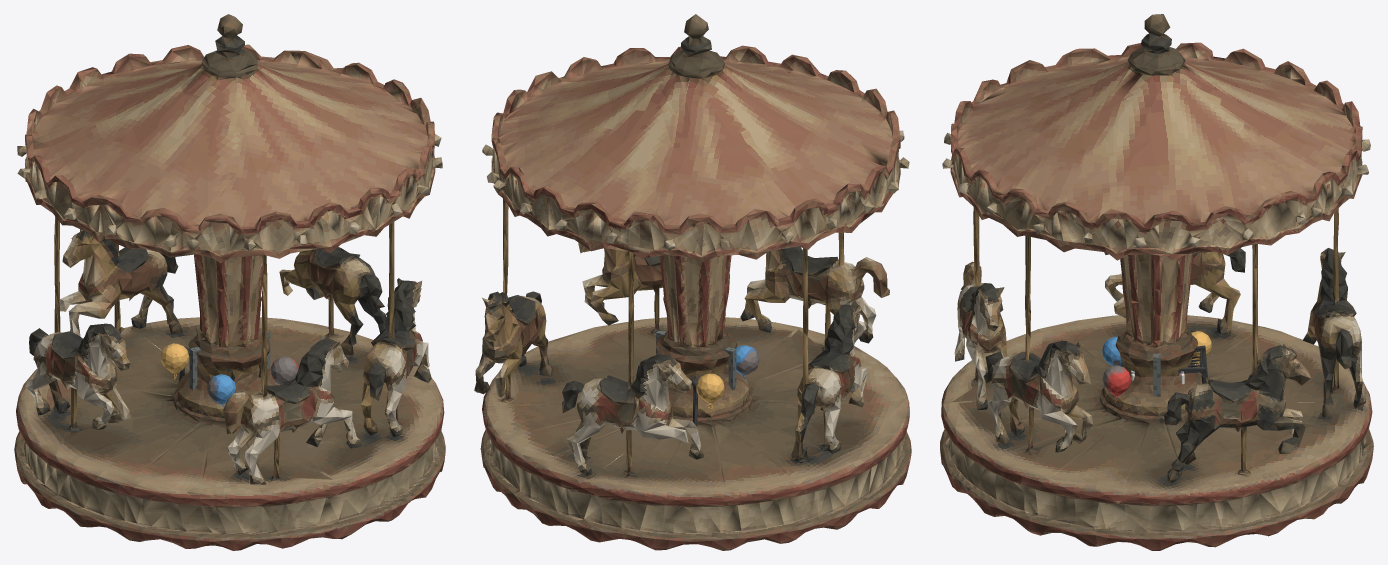
The model's file is kit_survival.glb.
The picture shows the model from 3 angles, left to right: view 1: azimuth 30°, elevation 25°; view 2: azimuth 150°, elevation 25°; view 3: azimuth 270°, elevation 25°; orthographic projection.
Visible parts, largest first — view 1: kit_carousel, kit_partytable; view 2: kit_carousel, kit_partytable; view 3: kit_carousel, kit_partytable.
Boxes of the visible parts, left/top/right/bottom form: kit_carousel: left=14, top=14, right=445, bottom=550; kit_partytable: left=160, top=343, right=298, bottom=417; kit_carousel: left=474, top=14, right=911, bottom=550; kit_partytable: left=696, top=345, right=759, bottom=419; kit_carousel: left=940, top=14, right=1373, bottom=550; kit_partytable: left=1102, top=331, right=1211, bottom=405.
Size of the model in its own units: 7.4 by 8.42 by 7.4.
9 materials, 9 textured.
